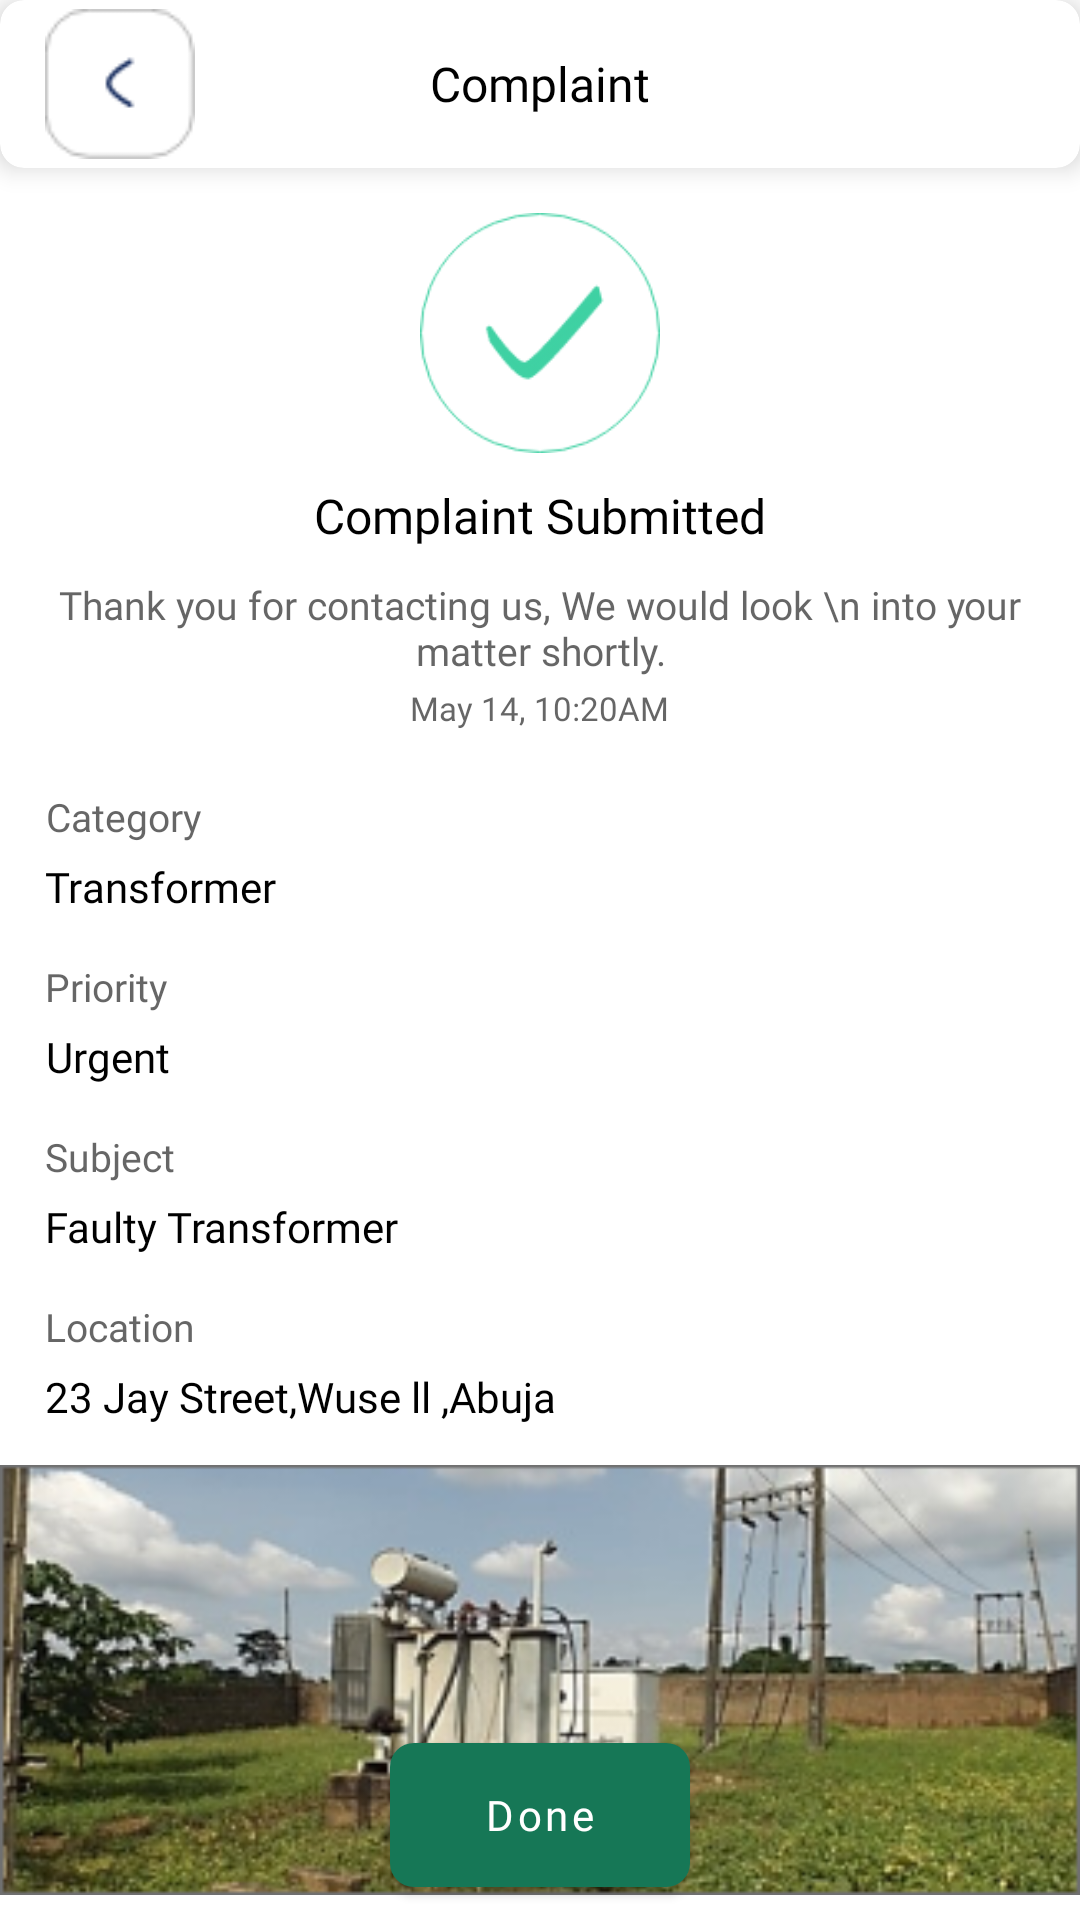

Where icons sit on this 1080 x 1920 app screen, as (x1, y1, x2, y2):
back: (45, 9, 195, 159)
